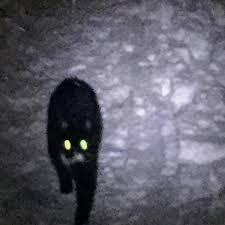house cat: (38, 59, 123, 218)
